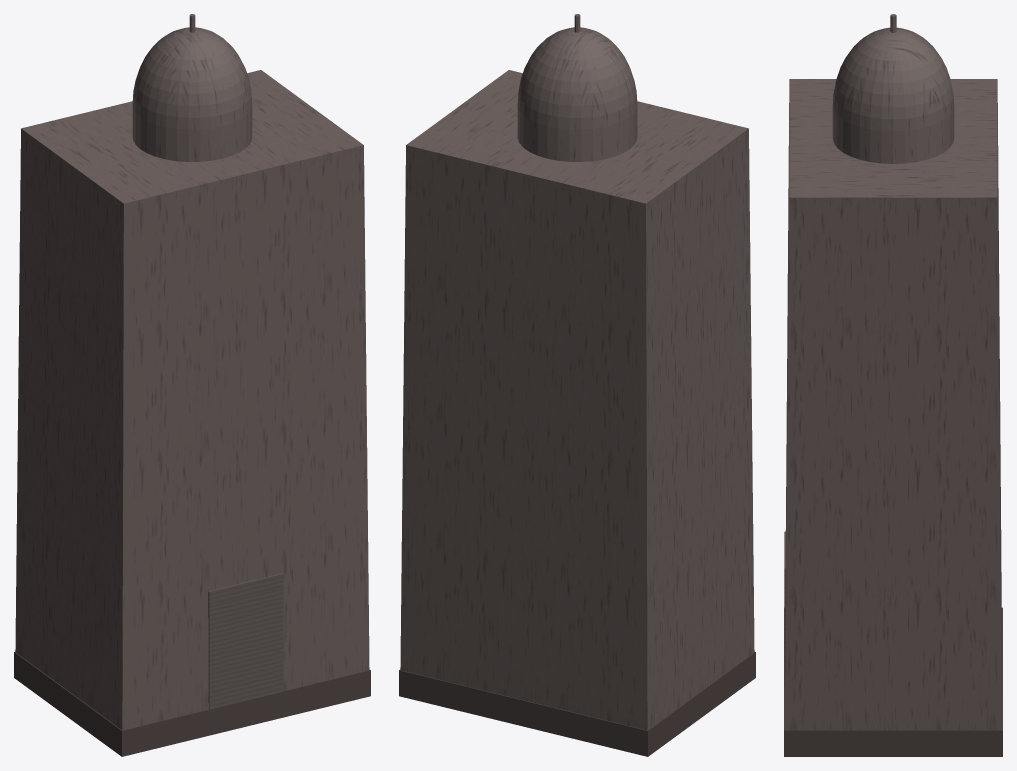
The model's file is SM_Souq_Warehouse_W4D30_Dome.fbx.
The picture shows the model from 3 angles, left to right: view 1: azimuth 30°, elevation 25°; view 2: azimuth 150°, elevation 25°; view 3: azimuth 270°, elevation 25°; orthographic projection.
Visible parts, largest first — view 1: SM_Souq_Warehouse_W4D30_Dome; view 2: SM_Souq_Warehouse_W4D30_Dome; view 3: SM_Souq_Warehouse_W4D30_Dome.
Part boxes in pixels (bbox=[...]): SM_Souq_Warehouse_W4D30_Dome: bbox=[14, 14, 370, 756]; SM_Souq_Warehouse_W4D30_Dome: bbox=[399, 14, 755, 756]; SM_Souq_Warehouse_W4D30_Dome: bbox=[784, 14, 1002, 756].
Size of the model in its own units: 402 by 1038 by 302.
Materials: 4 (4 with a texture image).
